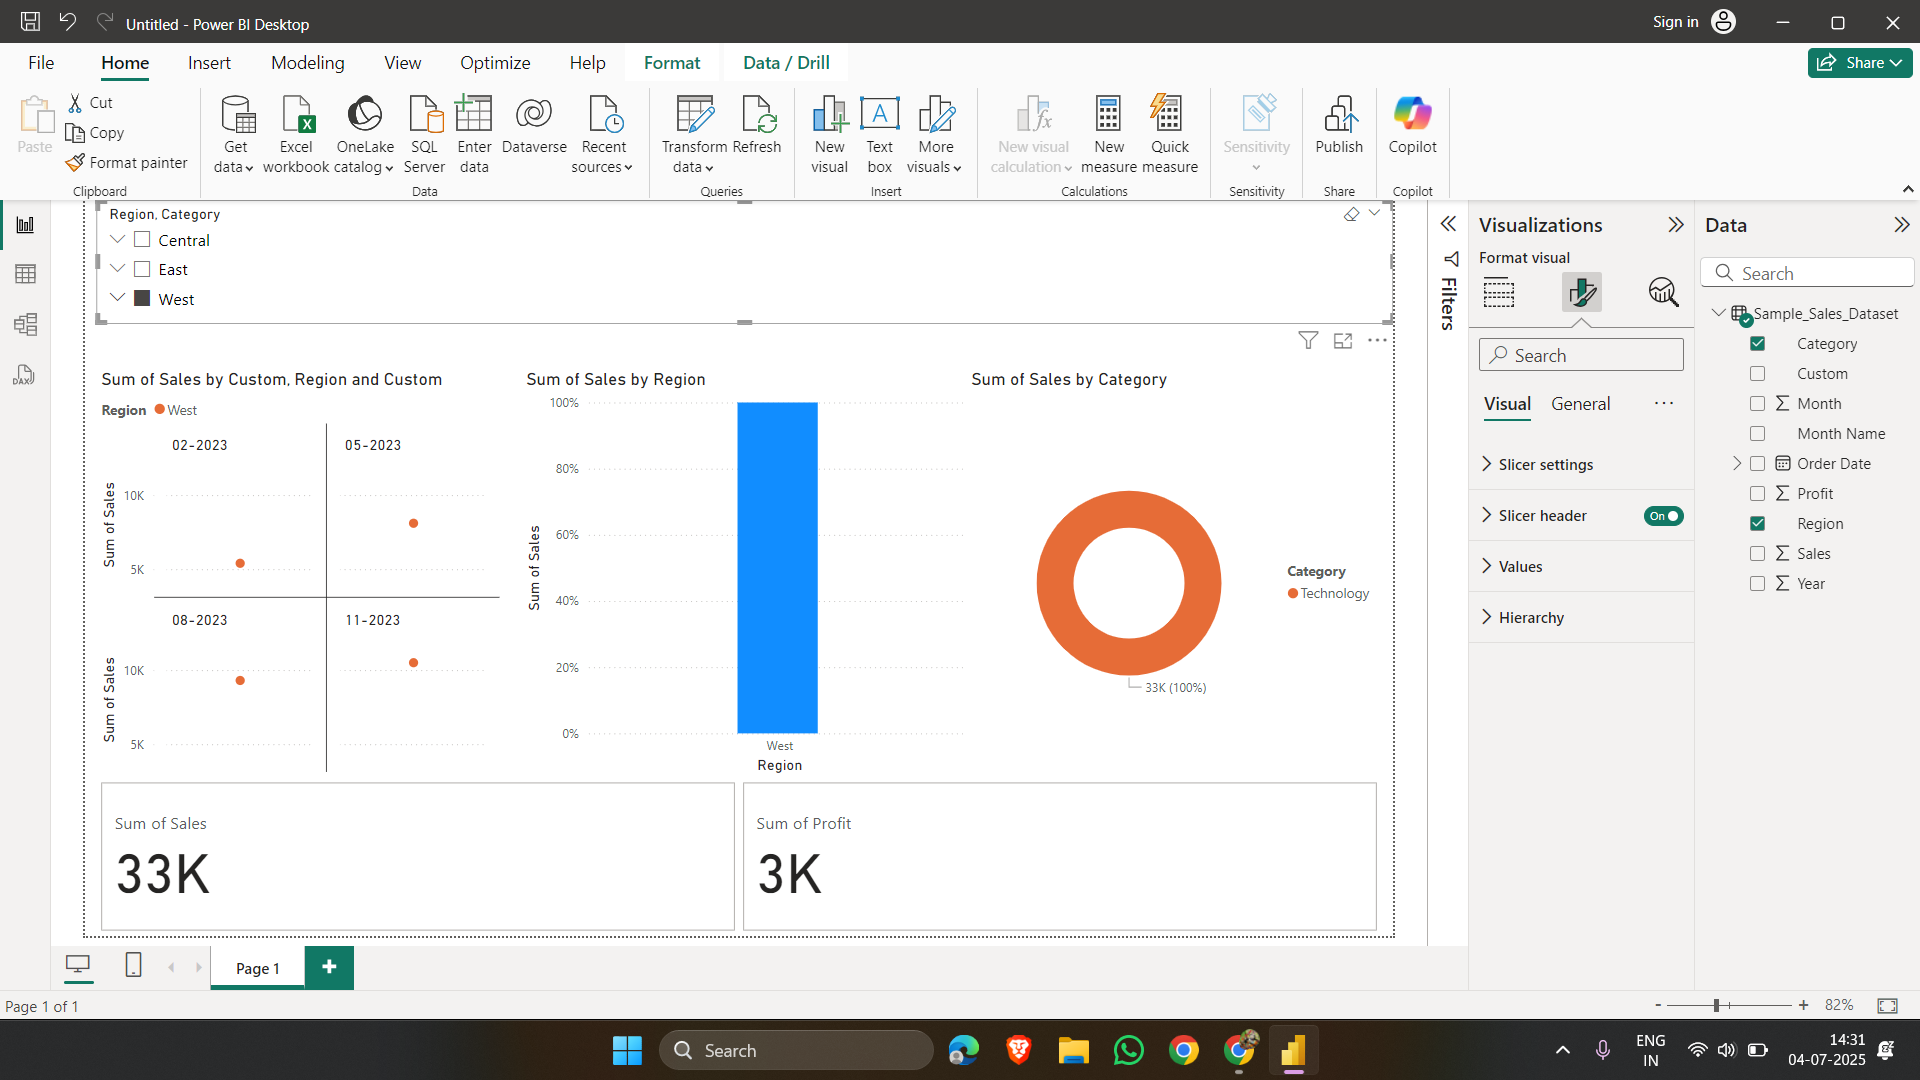

The page's visual inventory and layout, read from the dashboard file:
{"tool":"powerbi","page":{"name":"Sales Dashboard Design","canvas":[1280,720],"ordinal":0},"visuals":[{"type":"lineChart","fields":{"Y":["Sum(Sample_Sales_Dataset.Sales)"],"Category":["Sample_Sales_Dataset.Custom"],"Series":["Sample_Sales_Dataset.Region"],"Rows":["Sample_Sales_Dataset.Custom"]},"box":[11,164.7,400.7,400.7],"z":0},{"type":"hundredPercentStackedColumnChart","fields":{"Category":["Sample_Sales_Dataset.Region"],"Y":["Sum(Sample_Sales_Dataset.Sales)"]},"box":[426.8,164.7,444.6,400.7],"z":3},{"type":"donutChart","fields":{"Y":["Sum(Sample_Sales_Dataset.Sales)"],"Category":["Sample_Sales_Dataset.Category"]},"box":[861.8,164.7,408.9,400.7],"z":4},{"type":"cardVisual","fields":{"Data":["Sum(Sample_Sales_Dataset.Sales)","Sum(Sample_Sales_Dataset.Profit)"]},"box":[11,565.4,1259.7,155.1],"z":5},{"type":"slicer","fields":{"Values":["Sample_Sales_Dataset.Region"]},"box":[11,0,1269.3,120.8],"z":6}]}

Visuals, with their boxes on the page's 1280x720 design canvas (x1, y1, x2, y2). These are canvas units, not pixel positions in the 1920x1080 screenshot, which may show the page scaled, cropped or inside an application window:
lineChart - Sum(Sample_Sales_Dataset.Sales) x Sample_Sales_Dataset.Custom: l=11, t=165, r=412, b=565
hundredPercentStackedColumnChart - Sample_Sales_Dataset.Region x Sum(Sample_Sales_Dataset.Sales): l=427, t=165, r=871, b=565
donutChart - Sum(Sample_Sales_Dataset.Sales) x Sample_Sales_Dataset.Category: l=862, t=165, r=1271, b=565
cardVisual - Sum(Sample_Sales_Dataset.Sales) x Sum(Sample_Sales_Dataset.Profit): l=11, t=565, r=1271, b=720
slicer - Sample_Sales_Dataset.Region: l=11, t=0, r=1280, b=121
